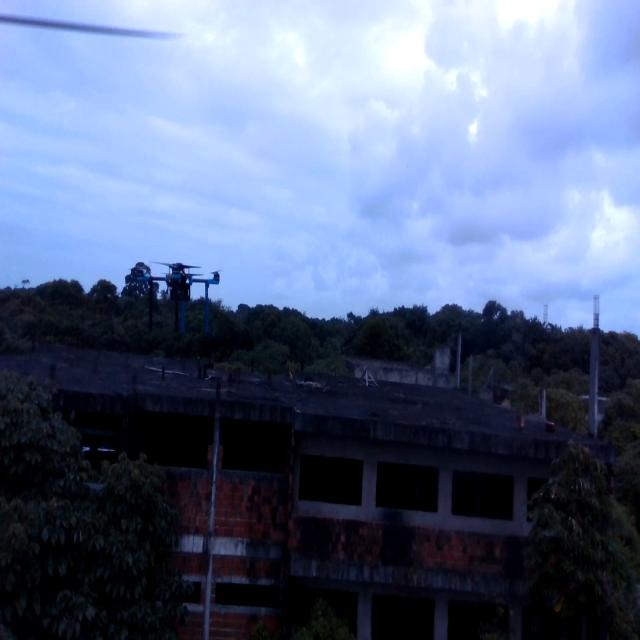-uav-: (120, 242, 238, 344)
